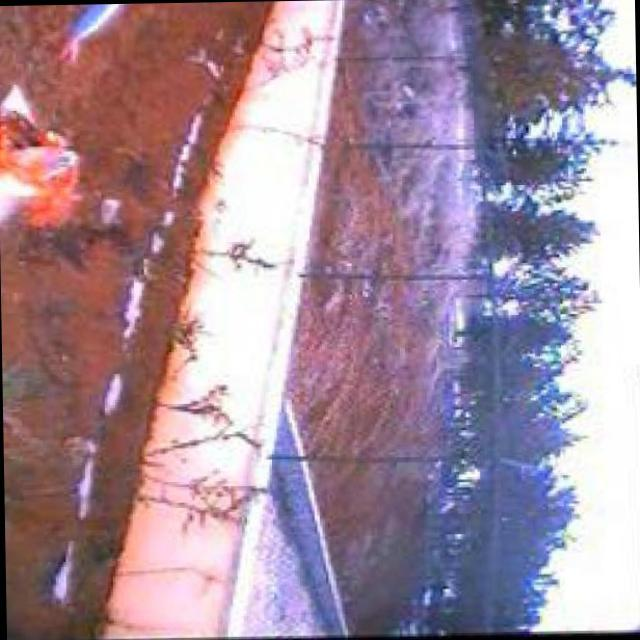Fire: (1, 91, 126, 265)
